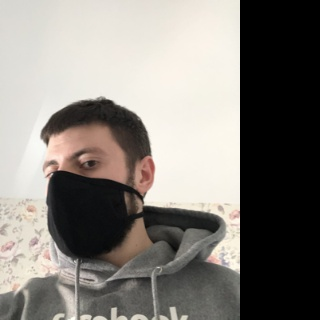with_mask: (43, 144, 131, 261)
